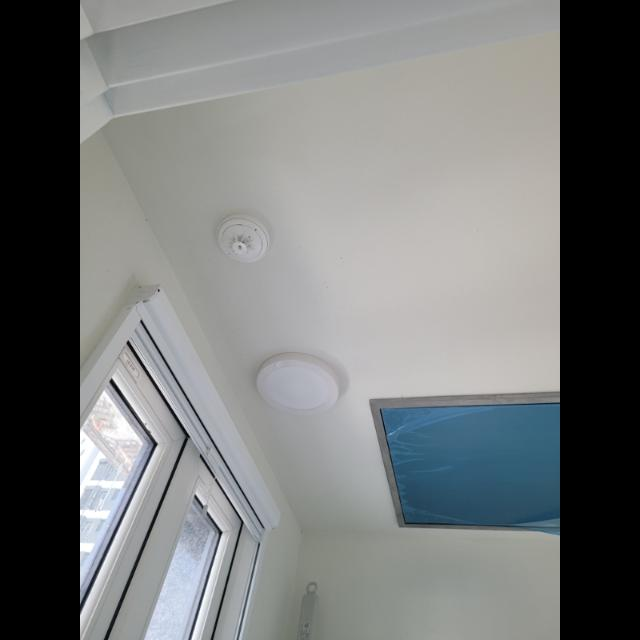Smoke-Detector: (220, 218, 270, 266)
